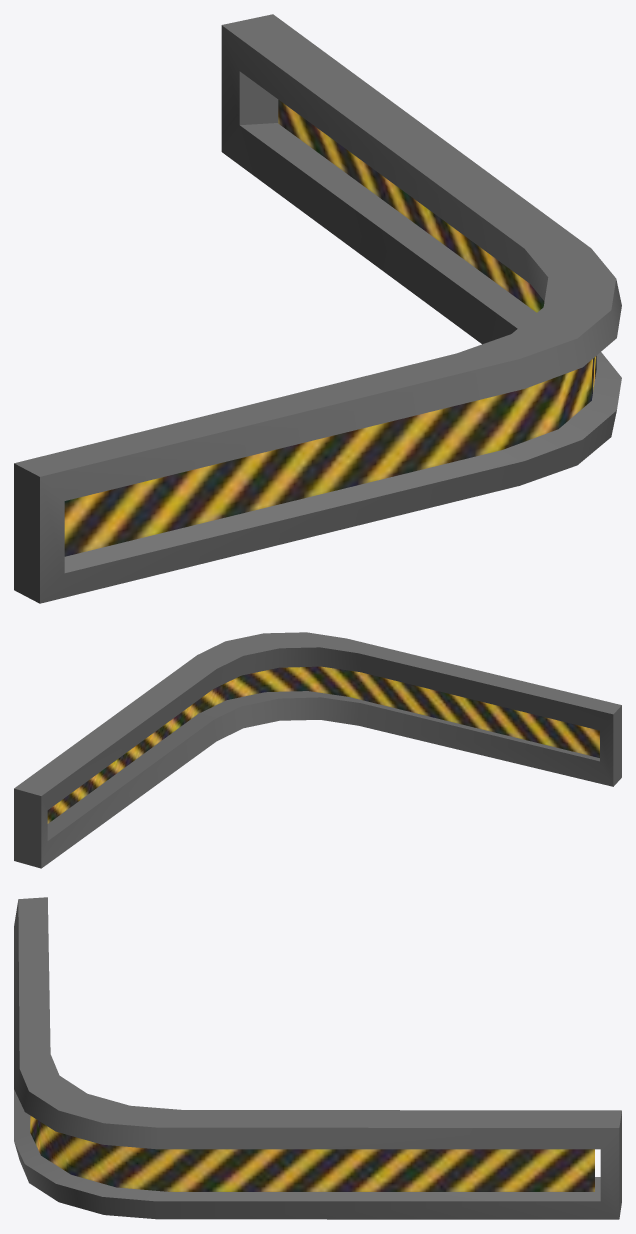
Rendered from Sign_Corner_Hazard.glb.
3 renders of one model, top to bottom at view 1: azimuth 30°, elevation 25°; view 2: azimuth 150°, elevation 25°; view 3: azimuth 270°, elevation 25°, orthographic. The views are drawn at different scales.
Parts seen in each view (by area): view 1: Sign_Corner_Hazard; view 2: Sign_Corner_Hazard; view 3: Sign_Corner_Hazard.
Part boxes in pixels (left/top/right/bottom): Sign_Corner_Hazard: left=14, top=14, right=621, bottom=603; Sign_Corner_Hazard: left=14, top=632, right=621, bottom=868; Sign_Corner_Hazard: left=14, top=897, right=621, bottom=1219.
Bounding box in the file's own units: 1.09 × 0.2011 × 1.21.
2 materials, 1 textured.
